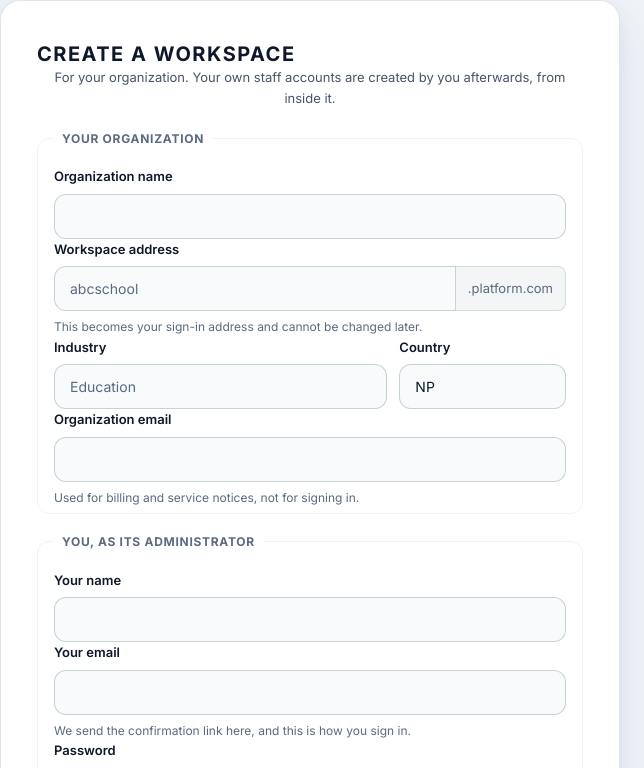
Test: the registration form › strips characters a hostname cannot contain, as they type
This screenshot has width=644, height=768.
In the field with placeholder "abcschool": x=255, y=289 [54,266,456,311], type "ABC School!"
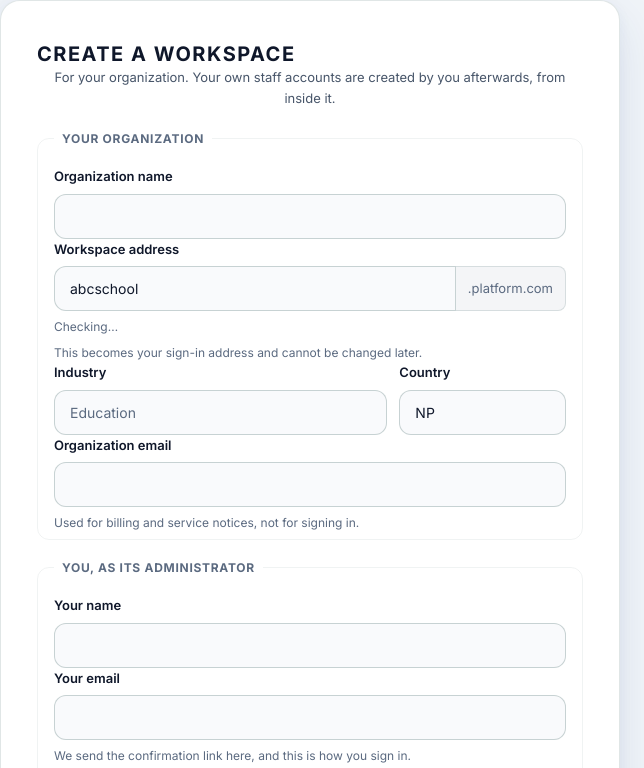
Check: the field with placeholder "abcschool" holds "abcschool", box [54,266,456,311]
